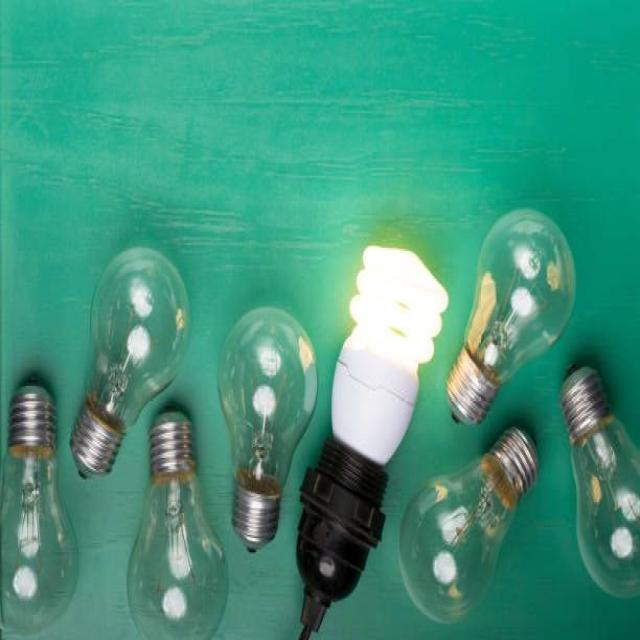electronic: (294, 242, 448, 638), (68, 243, 190, 480), (446, 206, 576, 425), (398, 423, 538, 624), (329, 243, 448, 466), (215, 303, 318, 552), (125, 408, 228, 638), (0, 376, 78, 636), (558, 362, 639, 598)
